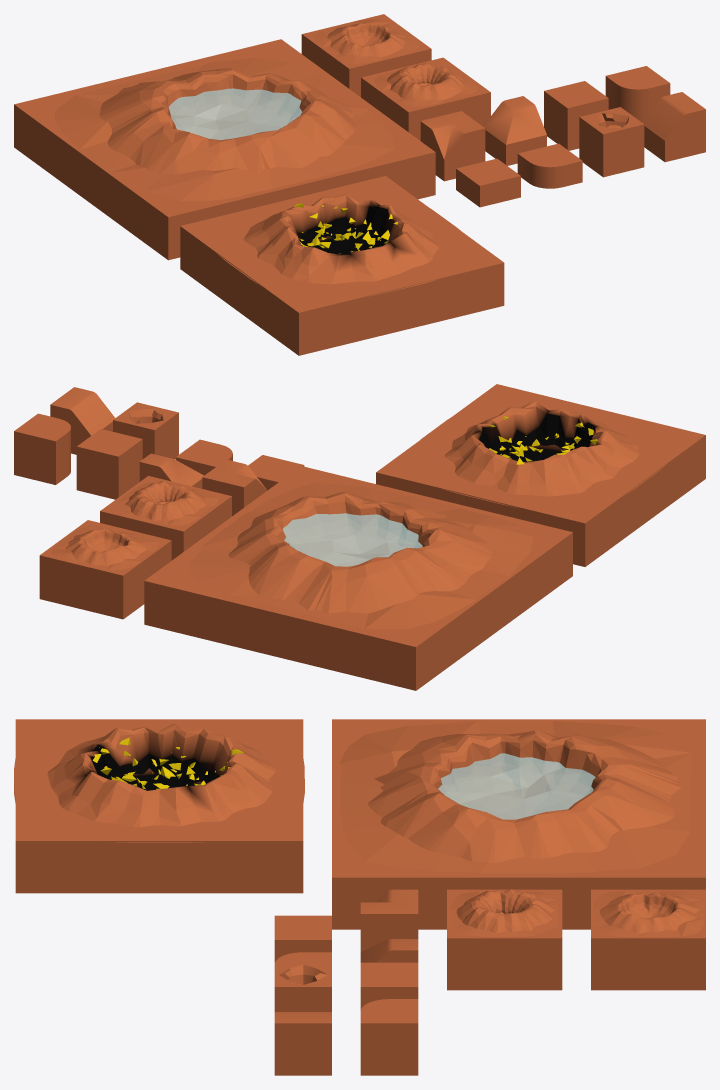
File: Terrain_modular.fbx
3 views of the same model, one above another, from view 1: azimuth 30°, elevation 25°; view 2: azimuth 150°, elevation 25°; view 3: azimuth 270°, elevation 25° (orthographic). The views are drawn at different scales.
Parts seen in each view (by area): view 1: Crater.005, Crater.004, Crater.003, Crater.001, terrain_mining, terrain_slope, terrain_slope_inner_corner, terrain_slope_outer_corner, terrain_tall, terrain_tall_curved, terrain_low, terrain_low_curved; view 2: Crater.005, Crater.004, Crater.001, Crater.003, terrain_tall, terrain_tall_curved, terrain_mining, terrain_slope, terrain_slope_inner_corner, terrain_slope_outer_corner, terrain_low_curved, terrain_low; view 3: Crater.005, Crater.004, Crater.003, Crater.001, terrain_tall_curved, terrain_slope, terrain_mining, terrain_slope_inner_corner, terrain_tall, terrain_low, terrain_slope_outer_corner, terrain_low_curved.
Boxes of the visible parts, left/top/right/bottom form: Crater.005: left=14, top=39, right=435, bottom=260; Crater.004: left=180, top=176, right=504, bottom=355; Crater.003: left=361, top=57, right=490, bottom=140; Crater.001: left=301, top=14, right=431, bottom=96; terrain_mining: left=579, top=107, right=644, bottom=177; terrain_slope: left=642, top=92, right=705, bottom=162; terrain_slope_inner_corner: left=420, top=111, right=485, bottom=181; terrain_slope_outer_corner: left=483, top=96, right=546, bottom=165; terrain_tall: left=544, top=81, right=608, bottom=150; terrain_tall_curved: left=605, top=66, right=670, bottom=122; terrain_low: left=456, top=158, right=520, bottom=207; terrain_low_curved: left=517, top=143, right=582, bottom=188; Crater.005: left=144, top=466, right=572, bottom=690; Crater.004: left=376, top=384, right=705, bottom=566; Crater.001: left=39, top=520, right=171, bottom=619; Crater.003: left=100, top=476, right=231, bottom=560; terrain_tall: left=76, top=429, right=142, bottom=499; terrain_tall_curved: left=14, top=413, right=70, bottom=484; terrain_mining: left=113, top=402, right=178, bottom=459; terrain_slope: left=50, top=387, right=114, bottom=454; terrain_slope_inner_corner: left=202, top=459, right=267, bottom=516; terrain_slope_outer_corner: left=139, top=453, right=203, bottom=488; terrain_low_curved: left=175, top=439, right=232, bottom=475; terrain_low: left=248, top=455, right=304, bottom=490; Crater.005: left=332, top=719, right=705, bottom=929; Crater.004: left=14, top=719, right=304, bottom=893; Crater.003: left=447, top=889, right=562, bottom=990; Crater.001: left=591, top=889, right=705, bottom=990; terrain_tall_curved: left=360, top=999, right=418, bottom=1075; terrain_slope: left=274, top=1012, right=331, bottom=1075; terrain_mining: left=274, top=962, right=331, bottom=1011; terrain_slope_inner_corner: left=360, top=889, right=418, bottom=951; terrain_tall: left=360, top=962, right=418, bottom=1010; terrain_low: left=274, top=915, right=331, bottom=962; terrain_slope_outer_corner: left=360, top=939, right=418, bottom=962; terrain_low_curved: left=275, top=952, right=331, bottom=962.
Size of the model in its own units: 2506 by 325 by 2406.
